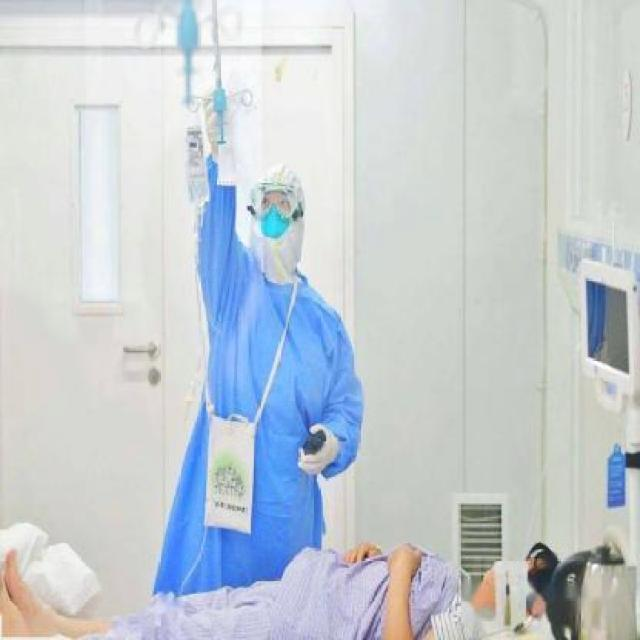face_mask: (260, 192, 295, 245)
glasses: (244, 180, 307, 225)
hand_glove: (386, 540, 425, 580), (344, 538, 382, 570)
hand_noglove: (295, 422, 334, 478), (200, 88, 232, 155)
head_nohelmet: (249, 163, 306, 202)
person: (163, 101, 392, 598)
